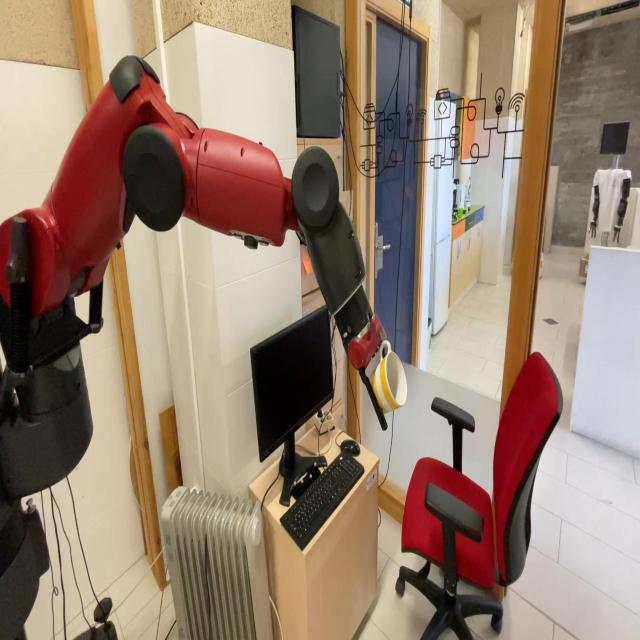cup: (366, 341, 408, 416)
